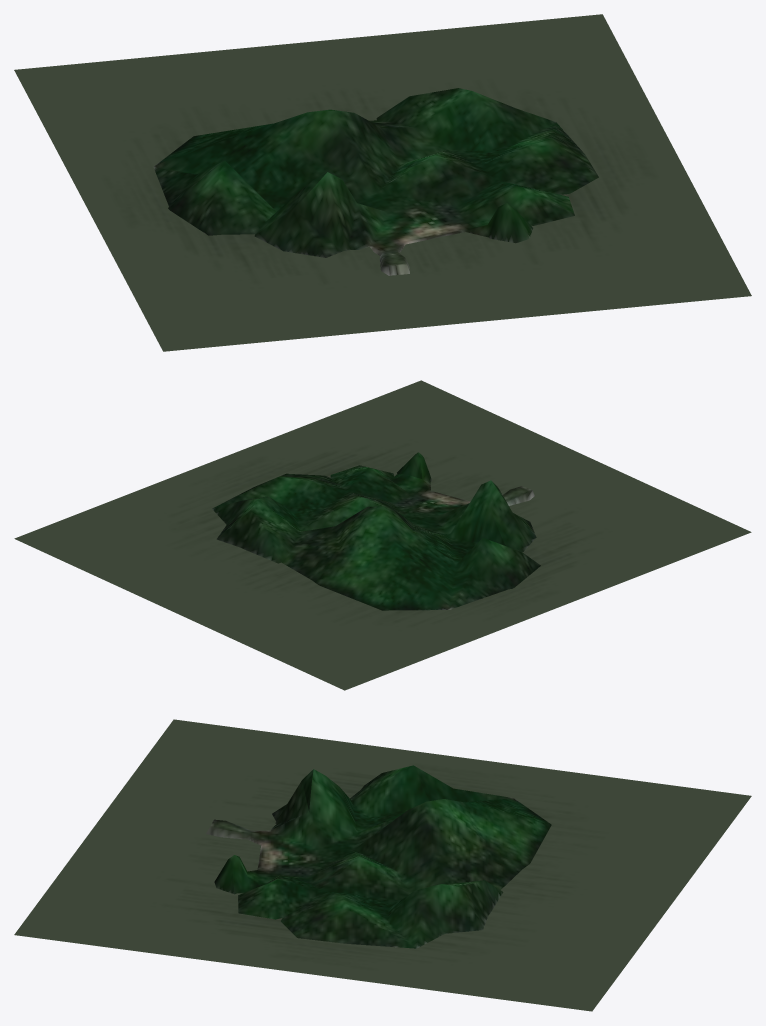
The model's file is pir_m_are_isl_nassau_worldmap.fbx.
3 views of the same model, one above another, from view 1: azimuth 30°, elevation 25°; view 2: azimuth 150°, elevation 25°; view 3: azimuth 270°, elevation 25° (orthographic). The views are drawn at different scales.
Parts seen in each view (by area): view 1: hatchmark, top_mesh; view 2: hatchmark, top_mesh; view 3: hatchmark, top_mesh.
Boxes of the visible parts, x1,y1,x2,y2 form: hatchmark: (14, 14, 751, 351); top_mesh: (153, 88, 598, 275); hatchmark: (14, 380, 751, 690); top_mesh: (212, 452, 540, 610); hatchmark: (14, 719, 751, 1011); top_mesh: (206, 765, 551, 948).
Bounding box in the file's own units: 144 × 13.13 × 154.
2 materials, 2 textured.
